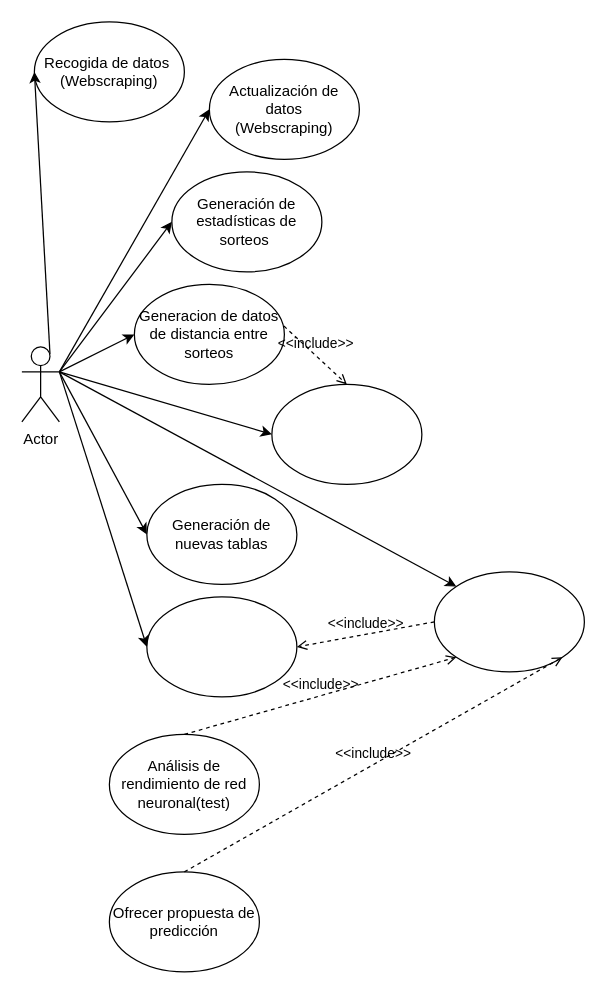
Image size: 606x994. Some labels were removed from this diagram. Here are the shapes that lost their labels. From the top down, the centre of each, then its label:
At point (346, 433): "Generación de gráficas".
At point (508, 621): "Entrenamiento de red neuronal".
At point (221, 646): "Separación de datos de entrenamiento y test".
